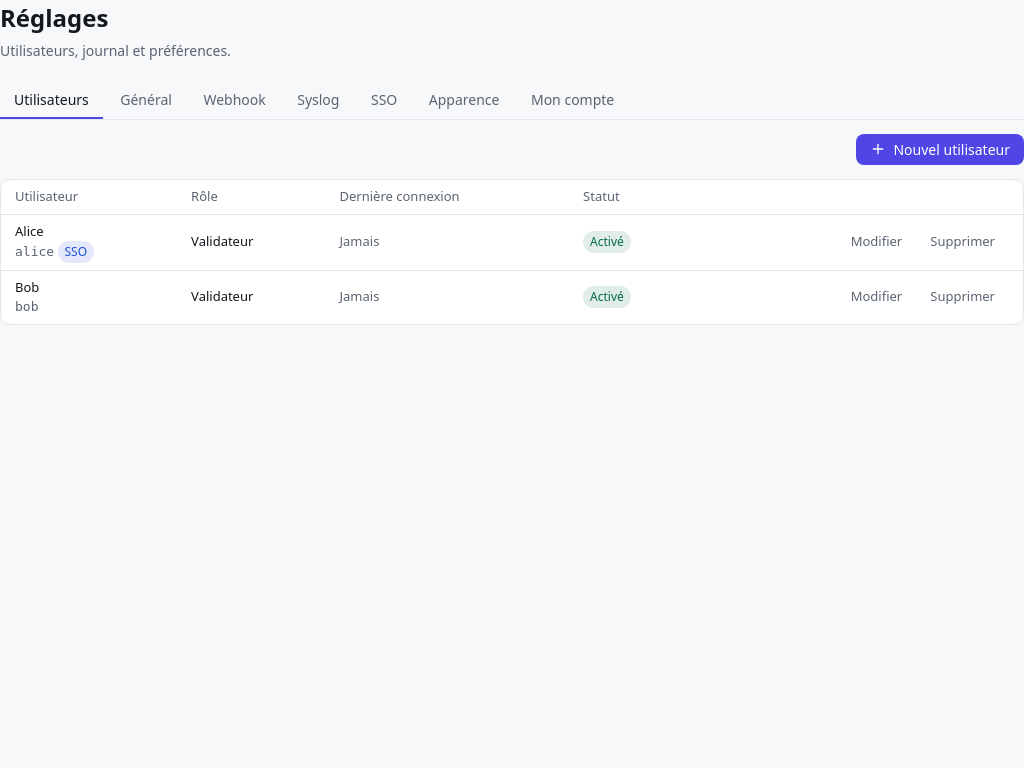
comptes SSO dans la liste des utilisateurs › marque le compte SSO et verrouille son rôle et son mot de passe
The image size is (1024, 768).
expect the text "SSO" is shown: met, box [58, 241, 94, 262]
Click the 1st button "Modifier" at (876, 242), box [837, 226, 916, 258]
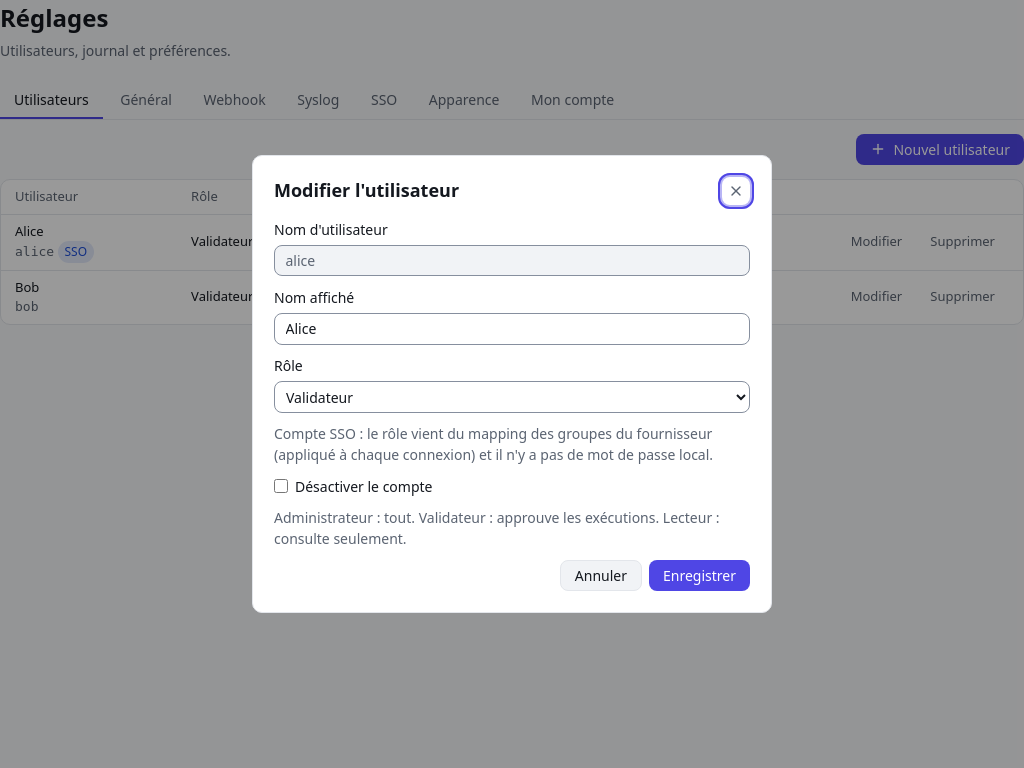
expect the dropdown labelled "Rôle" is disabled: met, box [274, 381, 750, 413]
expect the text "Compte SSO" is shown: met, box [274, 424, 713, 464]
